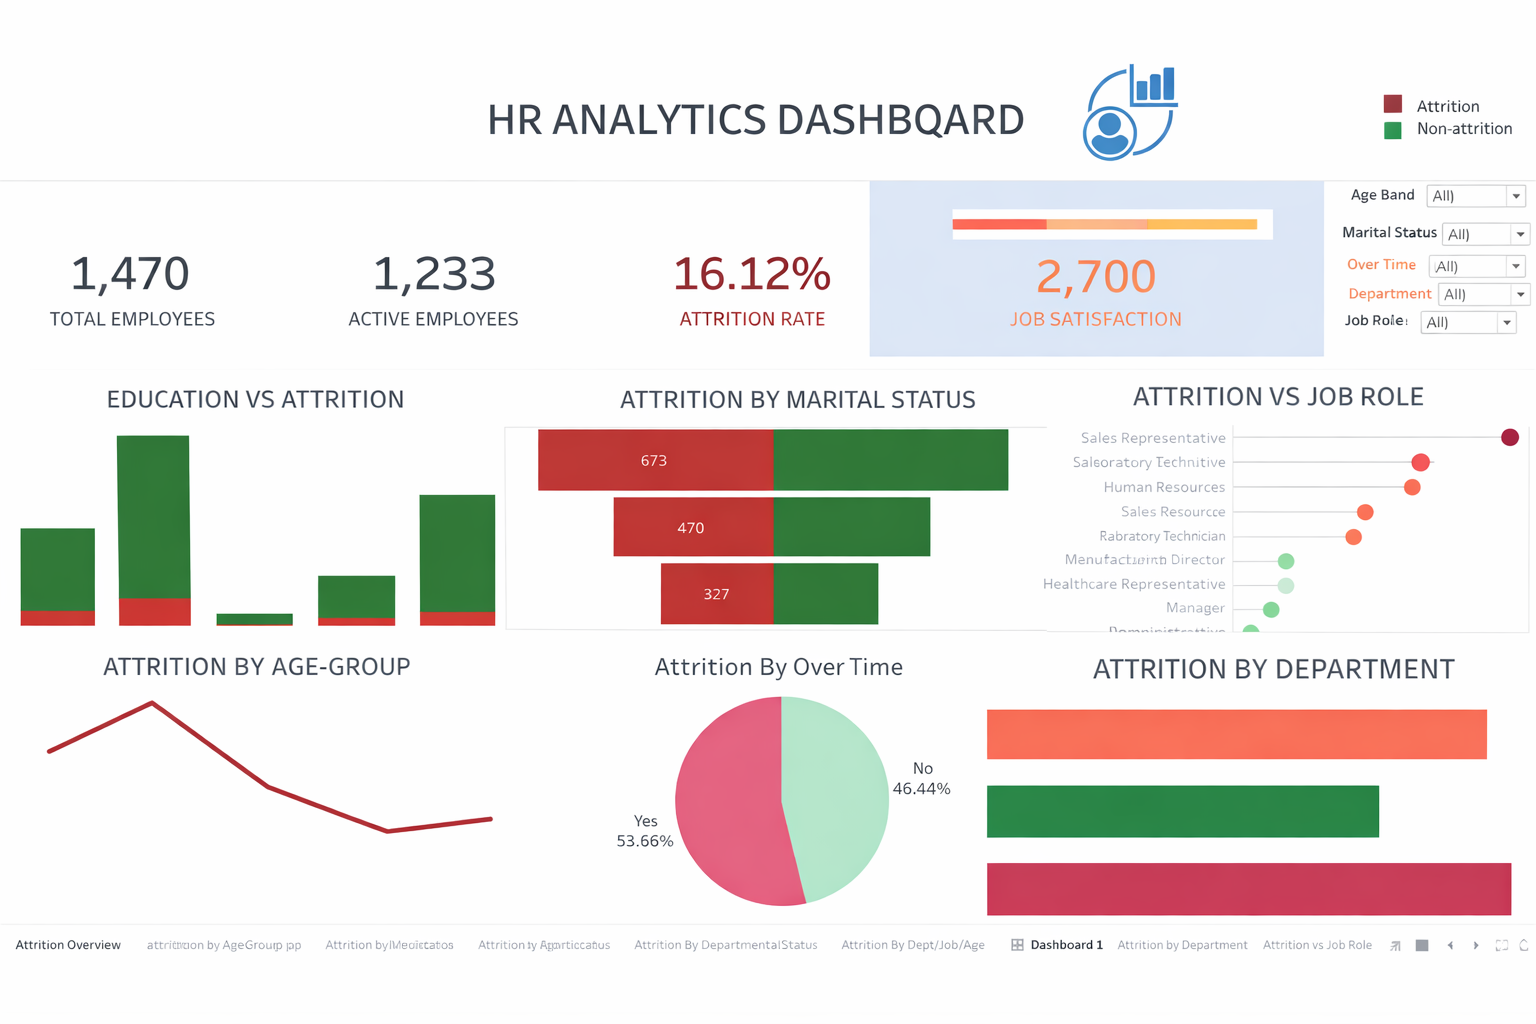

The page's visual inventory and layout, read from the dashboard file:
{"tool":"tableau","page":{"name":"Dashboard 1","canvas":[1000,1000],"units":"permille","ordinal":0},"visuals":[{"type":"image","param":"Image/strategic-consulting_17326320.png","box":[683.1,16.1,71.1,116.1]},{"type":"image","param":"Image/square_16001449.png","box":[887.6,51.8,14.1,26.8]},{"type":"text","box":[907.8,51.8,87.8,60.7]},{"type":"image","param":"Image/square_17500369.png","box":[889.4,85.7,10.5,25]},{"type":"worksheet","title":"Average JobSatisfaction KPI","mark":"Automatic","rows":["Calculation_0614098950021124"],"box":[558.4,116.1,287.1,217.9]},{"type":"worksheet","title":"Active Employees KPI","mark":"Automatic","box":[167.7,123.2,243.2,212.5]},{"type":"worksheet","title":"Attrition Rate KPI ","mark":"Automatic","box":[400.4,135.7,194.9,214.3]},{"type":"worksheet","title":"satisfactionBand","mark":"Bar","cols":["Employee Count"],"box":[613.7,139.3,203.7,69.6]},{"type":"filter","title":"Attrition By AgeGroup","param":"[federated.1r0daam1iqhca915gbqtg02osdev].[none:Calculation_1141589445038082:nk]","box":[856.9,151.8,140.5,48.2]},{"type":"filter","title":"AttritionByMaritalStatus","param":"[federated.1r0daam1iqhca915gbqtg02osdev].[none:Marital Status:nk]","box":[860.4,192.9,140.5,37.5]},{"type":"filter","title":"Attrition By Over Time","param":"[federated.1r0daam1iqhca915gbqtg02osdev].[none:Over Time:nk]","box":[856,225,140.5,32.1]},{"type":"filter","title":"Attrition By Department","param":"[federated.1r0daam1iqhca915gbqtg02osdev].[none:Department:nk]","box":[861.3,262.5,140.5,28.6]},{"type":"filter","title":"Attrition vs JobRole","param":"[federated.1r0daam1iqhca915gbqtg02osdev].[none:Job Role:nk]","box":[849,292.9,140.5,32.1]},{"type":"worksheet","title":"Attrition vs JobRole","mark":"Automatic","rows":["Job Role"],"cols":["Calculation_1141589442531329","Calculation_1141589442531329"],"box":[662,330.4,332.8,332.1]},{"type":"worksheet","title":"educationVSattrition","mark":"Automatic","rows":["Employee Count"],"cols":["Education"],"box":[4.4,350,332.8,314.3]},{"type":"worksheet","title":"AttritionByMaritalStatus","mark":"Bar","rows":["Marital Status"],"cols":["Calculation_0614099015643144","Calculation_0614099015475207"],"box":[332.8,350,332.8,314.3]},{"type":"worksheet","title":"Attrition By Over Time","mark":"Pie","box":[337.1,662.5,332.8,314.3]},{"type":"worksheet","title":"Attrition By AgeGroup","mark":"Line","rows":["Calculation_1141589442531329"],"cols":["Calculation_1141589445038082"],"box":[0,664.3,332.8,314.3]},{"type":"worksheet","title":"Attrition By Department","mark":"Automatic","rows":["Department"],"cols":["Calculation_1141589442531329"],"box":[626.9,664.3,360.8,321.4]}]}

Visuals, with their boxes on the dashboard's canvas, which has no fixed pixel size, in thousandths of its width and height (x1, y1, x2, y2). These are canvas units, not pixel positions in the 1536x1024 screenshot, which may show the page scaled, cropped or inside an application window:
image: {"x1": 683, "y1": 16, "x2": 754, "y2": 132}
image: {"x1": 888, "y1": 52, "x2": 902, "y2": 79}
text: {"x1": 908, "y1": 52, "x2": 996, "y2": 112}
image: {"x1": 889, "y1": 86, "x2": 900, "y2": 111}
"Average JobSatisfaction KPI" worksheet: {"x1": 558, "y1": 116, "x2": 846, "y2": 334}
"Active Employees KPI" worksheet: {"x1": 168, "y1": 123, "x2": 411, "y2": 336}
"Attrition Rate KPI " worksheet: {"x1": 400, "y1": 136, "x2": 595, "y2": 350}
"satisfactionBand" worksheet (Bar marks): {"x1": 614, "y1": 139, "x2": 817, "y2": 209}
"Attrition By AgeGroup" filter: {"x1": 857, "y1": 152, "x2": 997, "y2": 200}
"AttritionByMaritalStatus" filter: {"x1": 860, "y1": 193, "x2": 1001, "y2": 230}
"Attrition By Over Time" filter: {"x1": 856, "y1": 225, "x2": 996, "y2": 257}
"Attrition By Department" filter: {"x1": 861, "y1": 262, "x2": 1002, "y2": 291}
"Attrition vs JobRole" filter: {"x1": 849, "y1": 293, "x2": 990, "y2": 325}
"Attrition vs JobRole" worksheet: {"x1": 662, "y1": 330, "x2": 995, "y2": 662}
"educationVSattrition" worksheet: {"x1": 4, "y1": 350, "x2": 337, "y2": 664}
"AttritionByMaritalStatus" worksheet (Bar marks): {"x1": 333, "y1": 350, "x2": 666, "y2": 664}
"Attrition By Over Time" worksheet (Pie marks): {"x1": 337, "y1": 662, "x2": 670, "y2": 977}
"Attrition By AgeGroup" worksheet (Line marks): {"x1": 0, "y1": 664, "x2": 333, "y2": 979}
"Attrition By Department" worksheet: {"x1": 627, "y1": 664, "x2": 988, "y2": 986}
